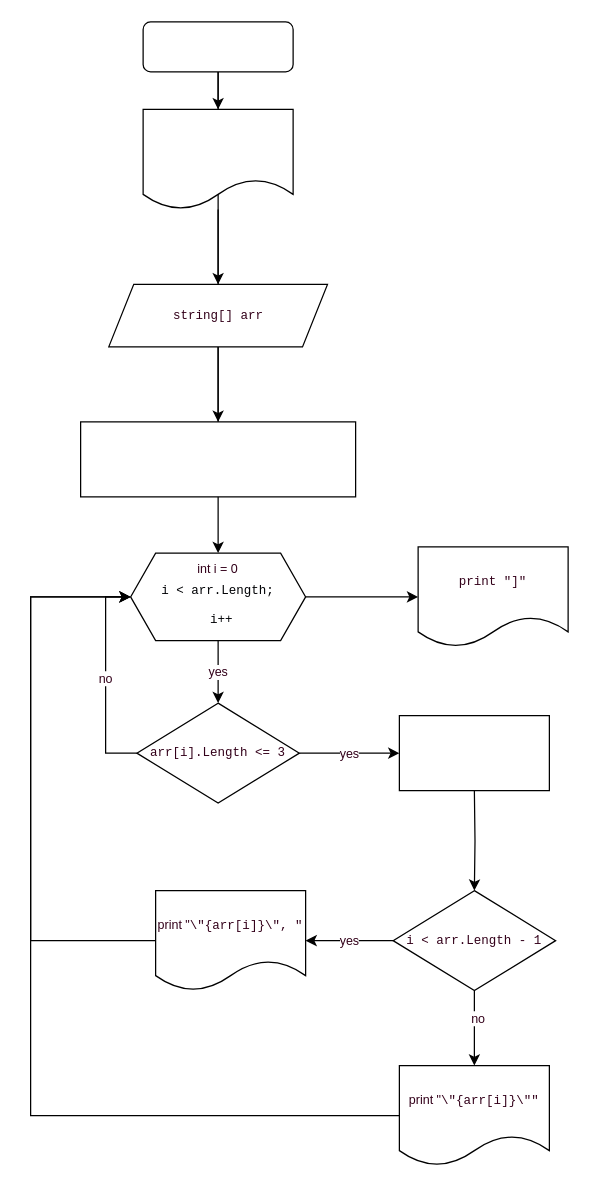
Image size: 590x1188. Some labels were removed from this diagram. Each missing label, with the box of its shape:
arraySymbolLimit3: (142, 21, 293, 72)
print "-> [": (142, 108, 293, 209)
res[j] = arr[i]; j++;: (398, 714, 549, 791)
string[] res = new string[arr.Length] int j = 0: (79, 421, 356, 497)
